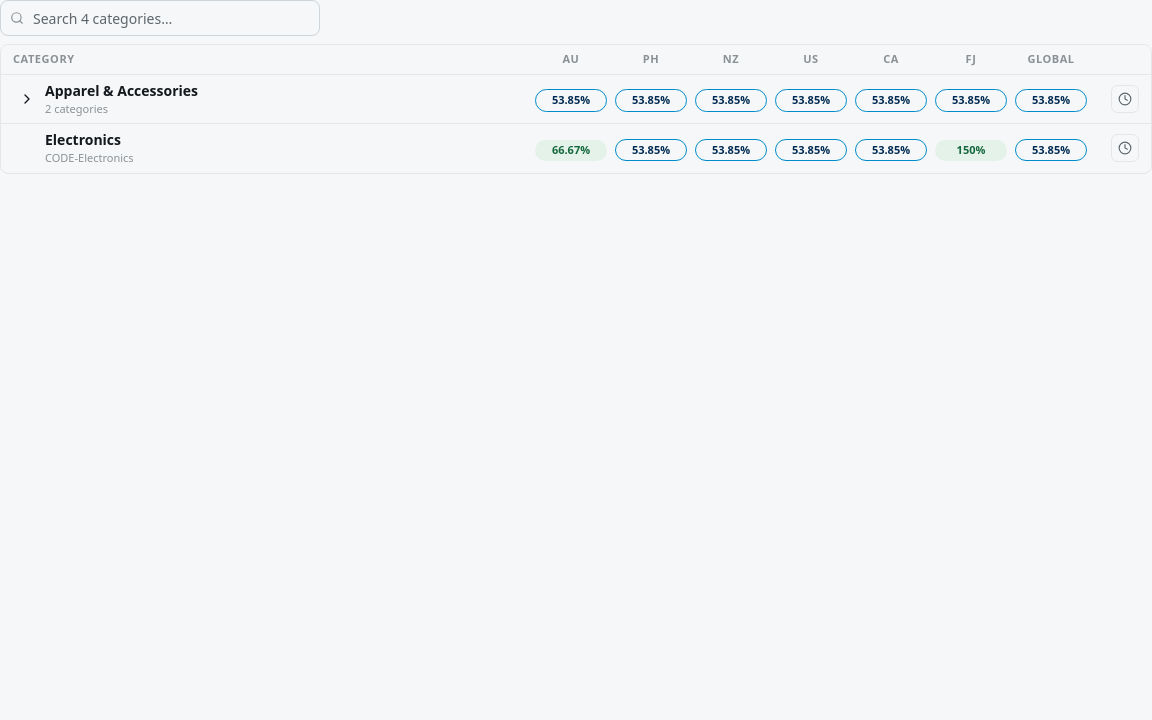
Test case: CategoryMarginTree › names the scope in the editor, which the cell behind it no longer can
Click the button named "Electronics — Fiji: Set on this category. Edit." at (971, 148), box x1=935 y1=136 x2=1007 y2=160
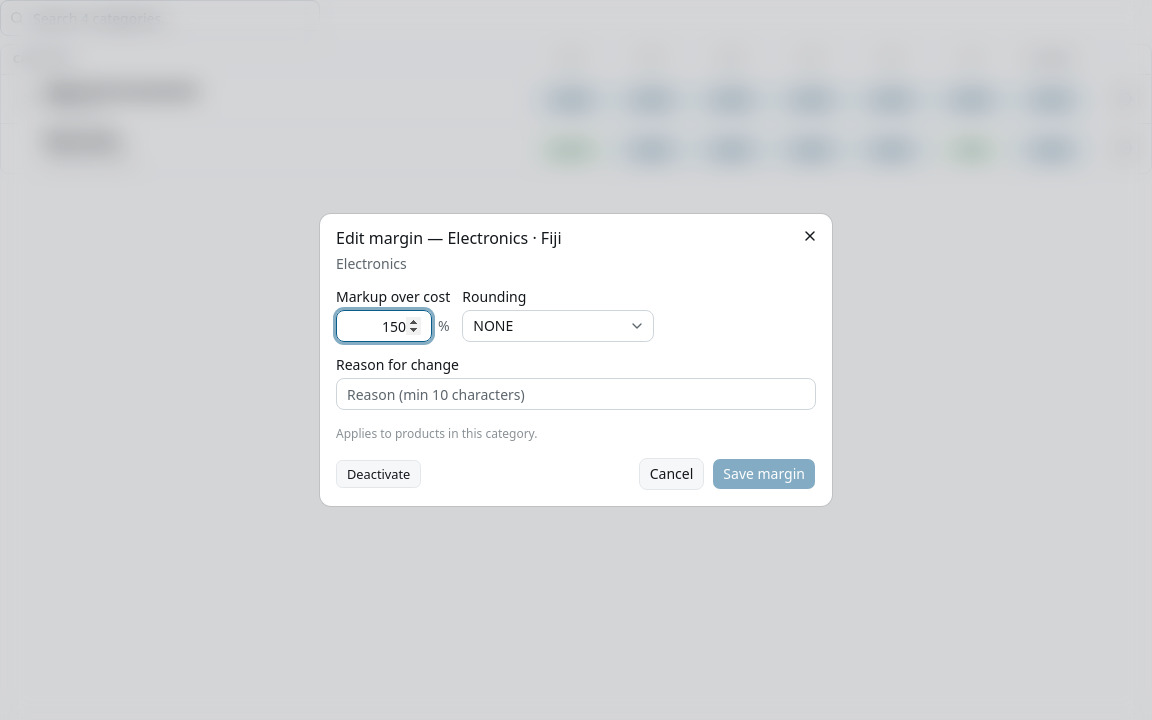
Expected: the heading "Edit margin — Electronics · Fiji" is shown, x1=336 y1=227 x2=562 y2=249
